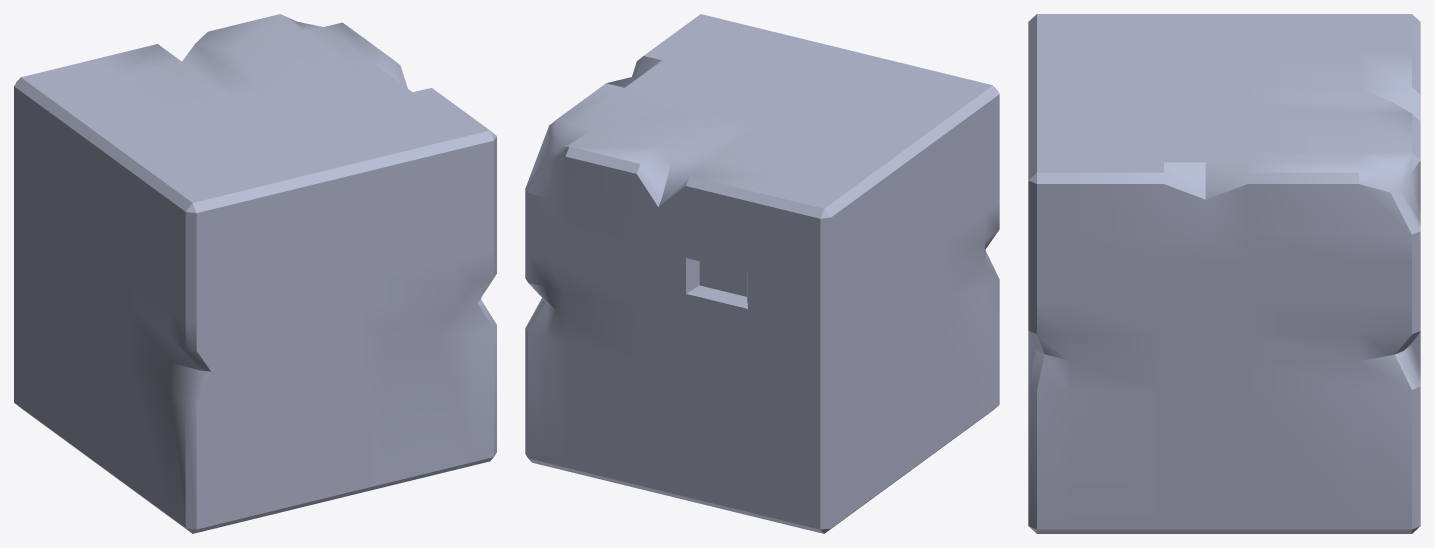
The model's file is Stone_2.fbx.
3 views of the same model, side by side, from view 1: azimuth 30°, elevation 25°; view 2: azimuth 150°, elevation 25°; view 3: azimuth 270°, elevation 25° (orthographic). The views are drawn at different scales.
Parts seen in each view (by area): view 1: Stone_2; view 2: Stone_2; view 3: Stone_2.
Boxes of the visible parts, box(x1,y1,x2,y2) form: Stone_2: box(14, 14, 496, 533); Stone_2: box(525, 14, 999, 533); Stone_2: box(1028, 14, 1420, 533).
Size of the model in its own units: 102 by 103 by 102.
